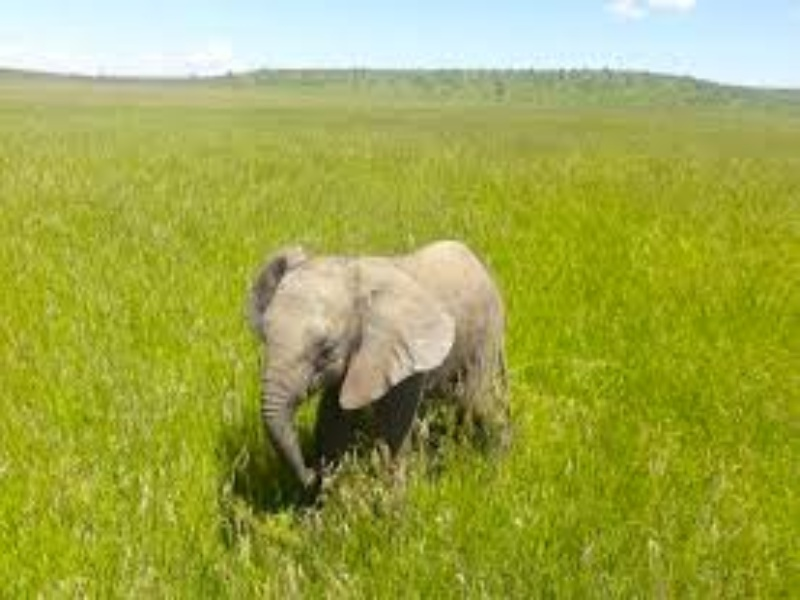elephant: (207, 213, 541, 521)
